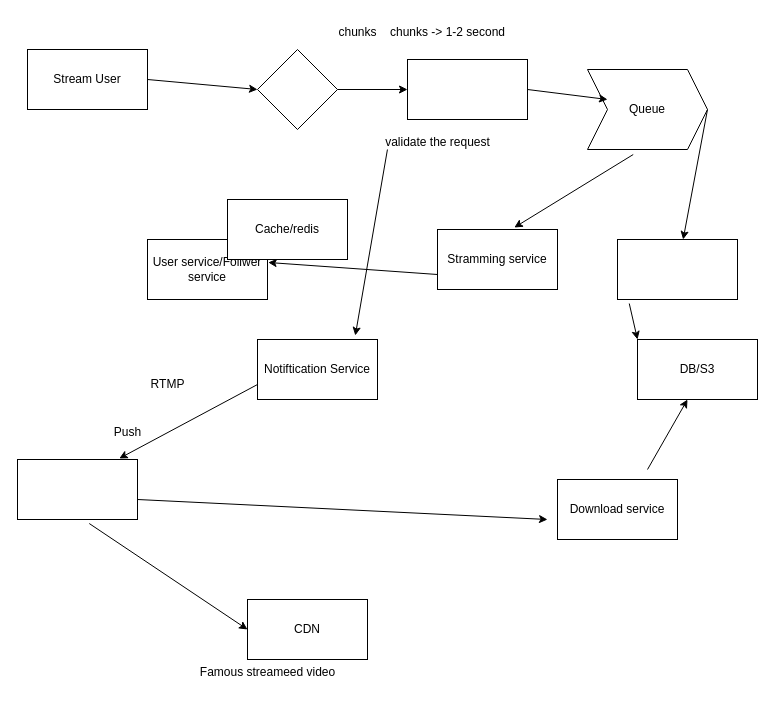
The diagram is 775 pixels wide and 704 high, and some of its shapes have lost their labels. The centre of each missing label's shape, as x and y in pixels:
"Follower User" belongs at point 77,489.
"LB" belongs at point 297,89.
"Steamming Upload Service" belongs at point 467,89.
"Upload Service" belongs at point 677,269.
